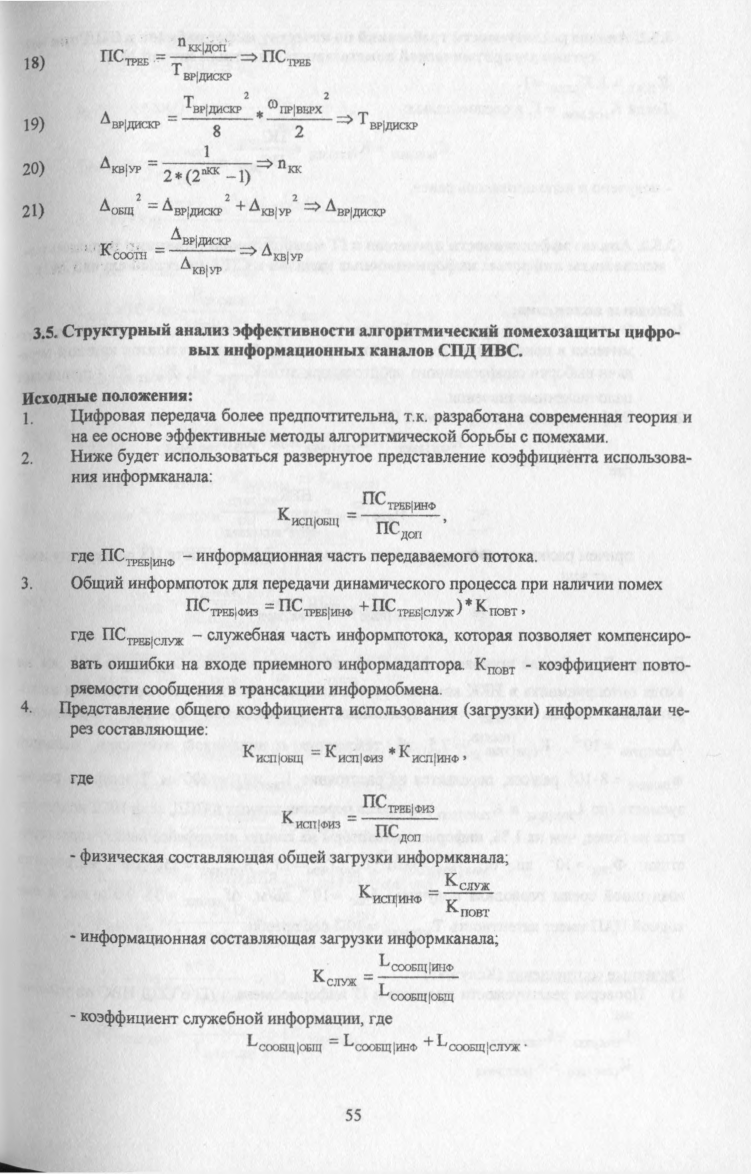K.исп.инф: (354, 879, 423, 905), (398, 743, 459, 766)
K.исп.общ: (271, 500, 342, 530), (241, 742, 306, 766)
K.исп.физ: (321, 743, 384, 766), (280, 810, 343, 832)
K.повт: (471, 595, 519, 619), (441, 898, 492, 919)
K.служ: (442, 868, 493, 891), (309, 966, 359, 989)
K.соотн: (96, 240, 149, 262)
L.сообщ.инф: (376, 949, 454, 974), (340, 1031, 419, 1054)
L.сообщ.общ: (242, 1031, 325, 1056), (374, 981, 457, 1005)
L.сообщ.служ: (435, 1030, 522, 1056)
T.вр.дискр: (171, 62, 234, 83), (182, 95, 242, 116)
group: (85, 88, 332, 138), (177, 591, 529, 626), (266, 485, 446, 543), (302, 947, 466, 1009), (236, 1028, 530, 1062), (276, 788, 448, 844), (351, 867, 502, 926), (91, 224, 242, 281), (89, 31, 242, 85), (235, 736, 469, 771), (90, 146, 255, 185), (86, 193, 299, 222)
n.кк: (199, 165, 220, 176)
n.кк.доп: (175, 34, 228, 55)
Δ.вр.дискр: (95, 108, 162, 133), (161, 197, 224, 218), (166, 228, 232, 248)
Δ.кв.ур: (177, 254, 223, 277), (247, 197, 291, 218), (98, 155, 141, 176)
Δ.общ: (96, 197, 134, 217)
ω.пр.верх: (265, 95, 323, 116)
ПС.доп: (373, 520, 425, 539), (373, 823, 424, 841)
ПС.треб: (96, 44, 151, 71)
ПС.треб.инф: (276, 594, 355, 620), (360, 488, 437, 512)
ПС.треб.служ: (367, 596, 454, 620)
ПС.треб.физ: (182, 593, 260, 620), (360, 791, 435, 814)
